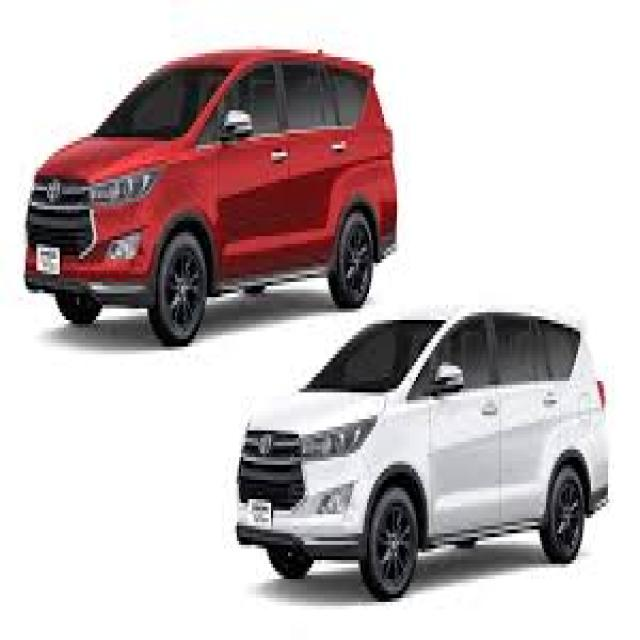light_vehicle: (22, 47, 398, 350), (235, 304, 610, 602)
